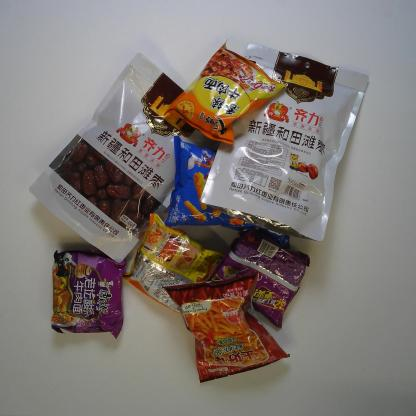Dried Food: (26, 51, 226, 266), (199, 39, 372, 243)
Instant Noodles: (163, 40, 290, 148), (117, 211, 231, 322), (202, 224, 312, 332), (43, 243, 128, 340)
Puffed Food: (159, 132, 296, 254), (160, 266, 292, 386)
